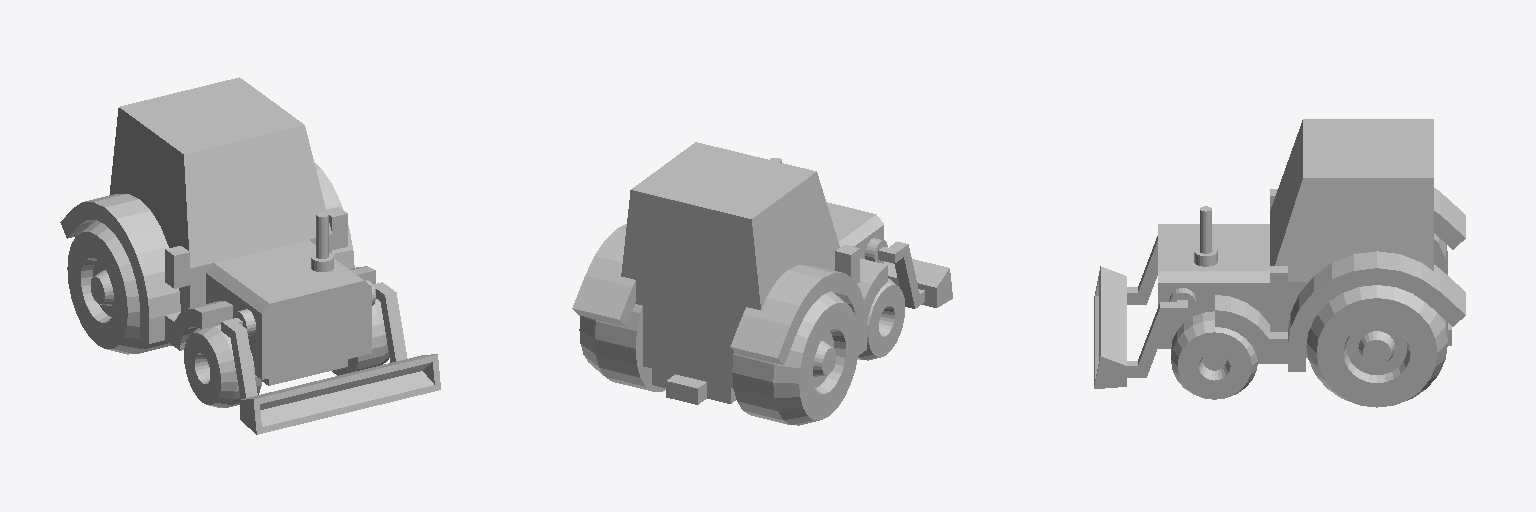
File: tractorShovel.obj
The picture shows the model from 3 angles: view 1: azimuth 30°, elevation 25°; view 2: azimuth 150°, elevation 25°; view 3: azimuth 270°, elevation 25°; orthographic projection.
Parts seen in each view (by area): view 1: body, shovel, skirts, wheel_backRight, wheel_frontRight, wheel_frontLeft; view 2: body, skirts, wheel_backRight, wheel_backLeft, shovel, wheel_frontRight; view 3: body, wheel_backLeft, skirts, shovel, wheel_frontLeft.
Boxes of the visible parts, box(x1,y1,x2,y2) form: body: box(109, 77, 371, 385); shovel: box(221, 280, 440, 434); skirts: box(60, 162, 375, 350); wheel_backRight: box(67, 220, 171, 354); wheel_frontRight: box(184, 325, 261, 407); wheel_frontLeft: box(332, 299, 389, 375); body: box(621, 142, 883, 404); skirts: box(572, 224, 887, 364); wheel_backRight: box(732, 291, 859, 425); wheel_backLeft: box(579, 304, 665, 391); shovel: box(865, 238, 952, 308); wheel_frontRight: box(858, 278, 904, 360); body: box(1158, 119, 1451, 357); wheel_backLeft: box(1306, 285, 1447, 407); skirts: box(1215, 188, 1465, 371); shovel: box(1094, 236, 1195, 388); wheel_frontLeft: box(1171, 311, 1257, 399).
Bounding box in the file's own units: 1.17 × 1.1 × 1.72.